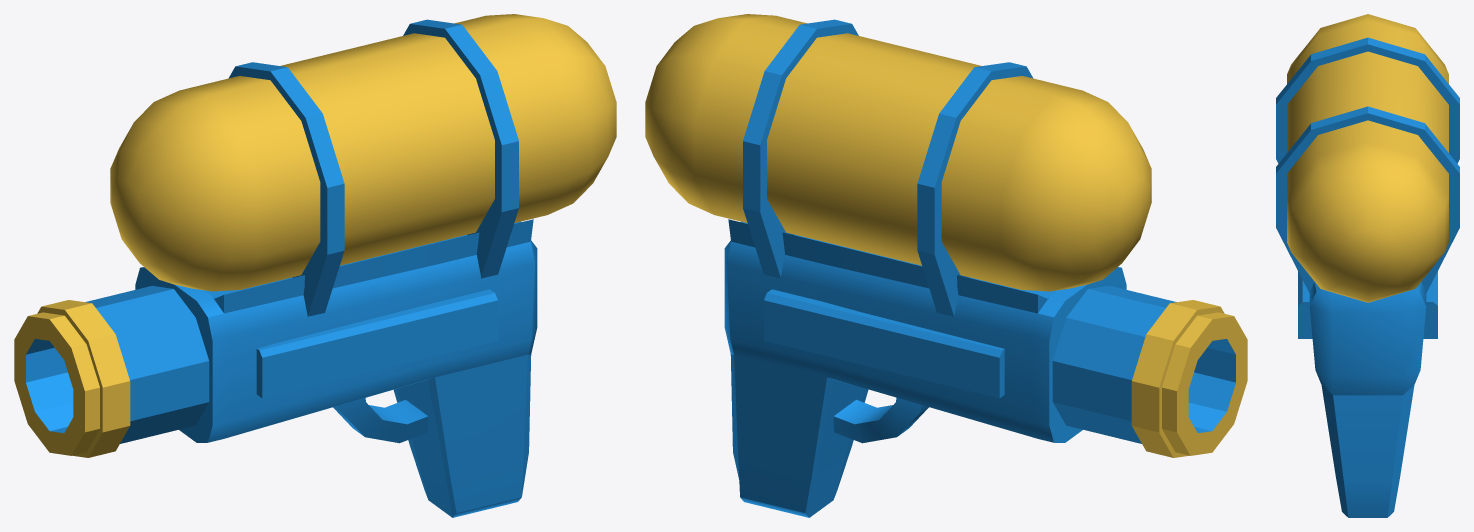
Rendered from SR_Gun_Yellow.fbx.
3 renders of one model, left to right at view 1: azimuth 30°, elevation 25°; view 2: azimuth 150°, elevation 25°; view 3: azimuth 270°, elevation 25°, orthographic. The views are drawn at different scales.
Visible parts, largest first — view 1: SR_Gun; view 2: SR_Gun; view 3: SR_Gun.
Boxes of the visible parts, bbox=[...] form: SR_Gun: bbox=[14, 14, 616, 517]; SR_Gun: bbox=[645, 14, 1247, 517]; SR_Gun: bbox=[1276, 14, 1459, 517].
Bounding box in the file's own units: 171 × 141 × 60.59.
